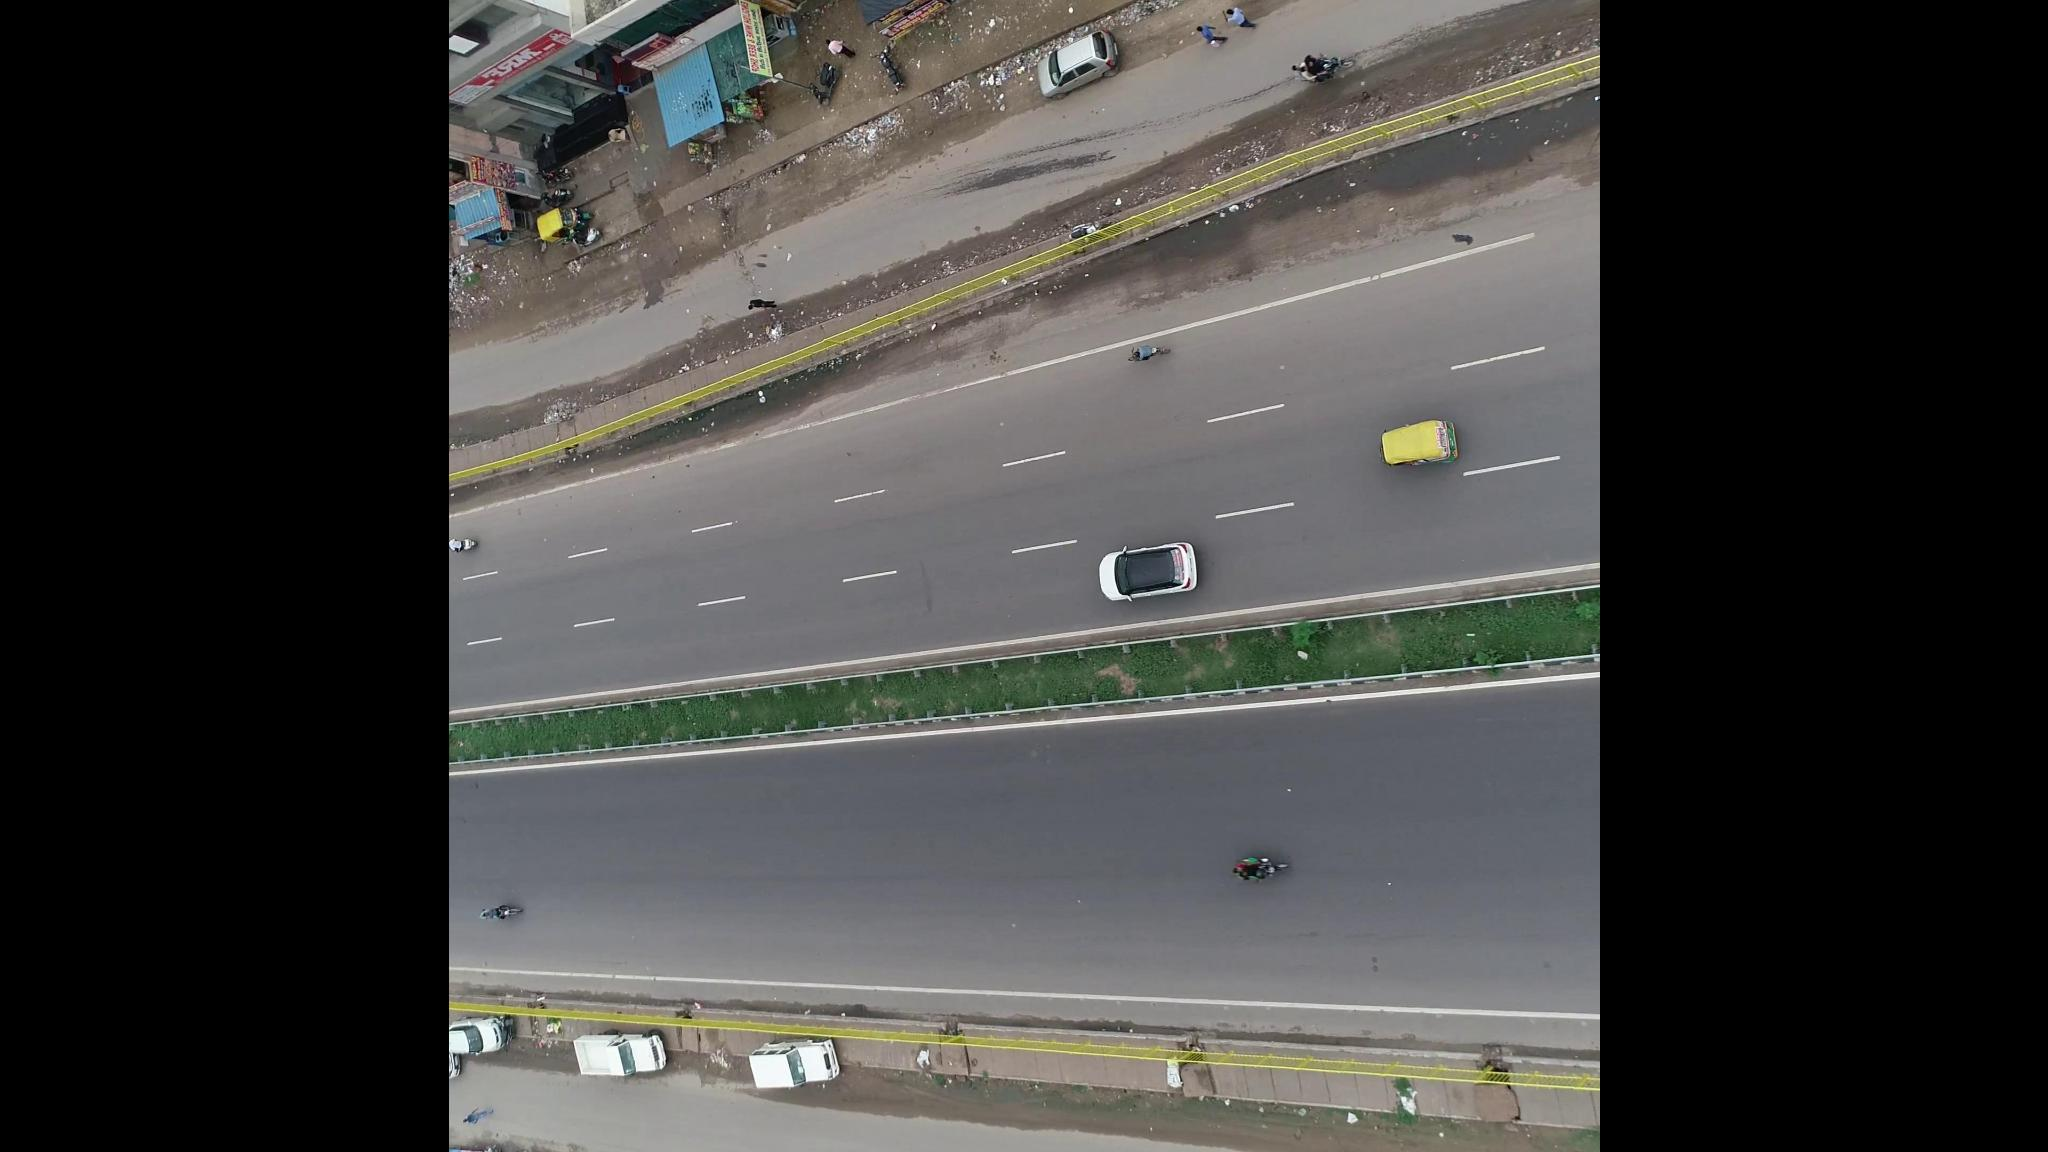Muddy_road: (1359, 1, 1594, 100), (1018, 1084, 1270, 1152), (1279, 1132, 1594, 1152)
